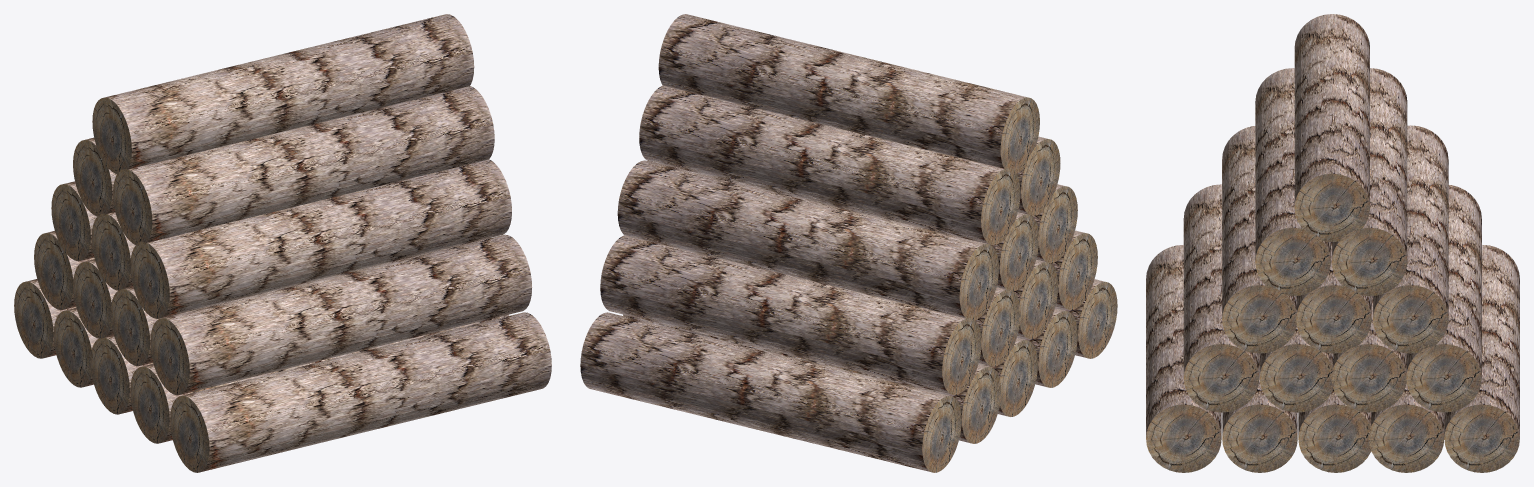
File: conjunto de troncos.fbx
3 views of the same model, side by side, from view 1: azimuth 30°, elevation 25°; view 2: azimuth 150°, elevation 25°; view 3: azimuth 270°, elevation 25° (orthographic). The views are drawn at different scales.
Parts seen in each view (by area): view 1: Cilindro.005, Cilindro.004, Cilindro.012, Cilindro.013, Cilindro.015, Cilindro.003, Cilindro.006, Cilindro.002, Cilindro.009, Cilindro.010, Cilindro.008, Cilindro.011 (+3 smaller); view 2: Cilindro.009, Cilindro.010, Cilindro.008, Cilindro.014, Cilindro.015, Cilindro.001, Cilindro.004, Cilindro.003, Cilindro.005, Cilindro.007, Cilindro.011, Cilindro.013 (+3 smaller); view 3: Cilindro.015, Cilindro.010, Cilindro.005, Cilindro.013, Cilindro.009, Cilindro.004, Cilindro.014, Cilindro.008, Cilindro.012, Cilindro.003, Cilindro.007, Cilindro.001 (+3 smaller).
Part boxes in pixels (x1,y1,x2,y2): Cilindro.005: [150, 234, 532, 395]; Cilindro.004: [170, 312, 551, 472]; Cilindro.012: [130, 159, 511, 318]; Cilindro.013: [113, 86, 494, 245]; Cilindro.015: [92, 14, 474, 174]; Cilindro.003: [130, 314, 508, 443]; Cilindro.006: [110, 238, 488, 366]; Cilindro.002: [90, 335, 153, 414]; Cilindro.009: [14, 279, 76, 358]; Cilindro.010: [51, 181, 96, 261]; Cilindro.008: [34, 231, 94, 309]; Cilindro.011: [91, 212, 135, 290]; Cilindro.009: [580, 312, 961, 472]; Cilindro.010: [617, 160, 998, 320]; Cilindro.008: [600, 235, 981, 395]; Cilindro.014: [639, 85, 1020, 245]; Cilindro.015: [658, 14, 1039, 174]; Cilindro.001: [623, 314, 1001, 443]; Cilindro.004: [1055, 279, 1117, 358]; Cilindro.003: [1017, 308, 1077, 387]; Cilindro.005: [1050, 230, 1097, 310]; Cilindro.007: [975, 287, 1020, 366]; Cilindro.011: [991, 212, 1038, 291]; Cilindro.013: [1017, 136, 1060, 215]; Cilindro.015: [1294, 14, 1369, 242]; Cilindro.010: [1373, 125, 1448, 353]; Cilindro.005: [1183, 184, 1259, 412]; Cilindro.013: [1255, 68, 1330, 296]; Cilindro.009: [1444, 245, 1519, 472]; Cilindro.004: [1146, 245, 1221, 472]; Cilindro.014: [1332, 68, 1407, 296]; Cilindro.008: [1406, 185, 1481, 412]; Cilindro.012: [1222, 126, 1296, 353]; Cilindro.003: [1222, 354, 1297, 472]; Cilindro.007: [1331, 296, 1406, 412]; Cilindro.001: [1368, 383, 1444, 472].
Size of the model in its own units: 1000 by 874 by 989.
